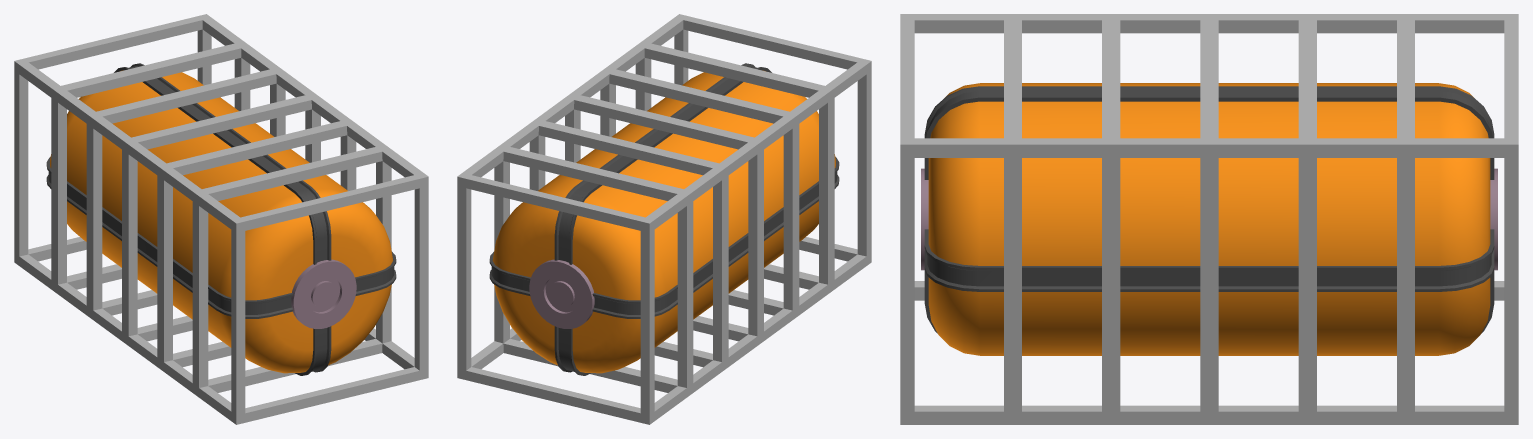
File: SmallBarrel01.fbx
The picture shows the model from 3 angles, left to right: view 1: azimuth 30°, elevation 25°; view 2: azimuth 150°, elevation 25°; view 3: azimuth 270°, elevation 25°; orthographic projection. The views are drawn at different scales.
Visible parts, largest first — view 1: SM_SmallBarrel01; view 2: SM_SmallBarrel01; view 3: SM_SmallBarrel01.
Part boxes in pixels (<box>): SM_SmallBarrel01: <box>14,14,428,424</box>; SM_SmallBarrel01: <box>457,14,871,424</box>; SM_SmallBarrel01: <box>900,14,1518,424</box>.
Bounding box in the file's own units: 100 × 100 × 200.
